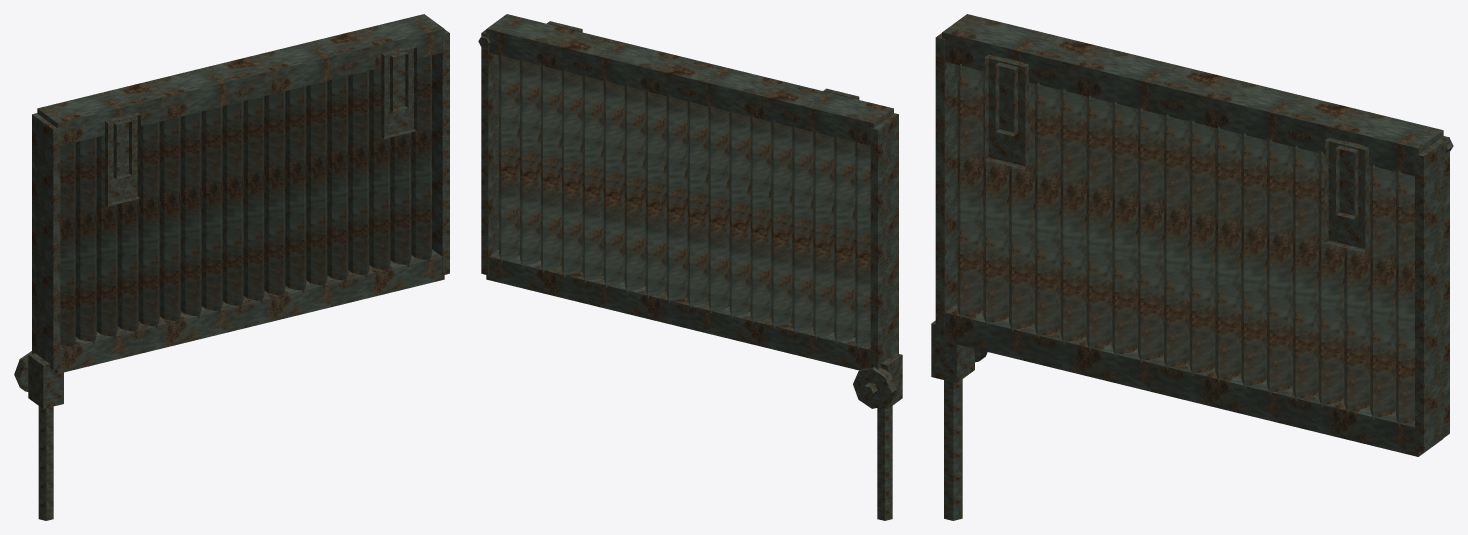
The model's file is SM_Radiator.fbx.
3 views of the same model, side by side, from view 1: azimuth 30°, elevation 25°; view 2: azimuth 150°, elevation 25°; view 3: azimuth 330°, elevation 25° (orthographic). The views are drawn at different scales.
Visible parts, largest first — view 1: SM_Radiator; view 2: SM_Radiator; view 3: SM_Radiator.
Boxes of the visible parts, x1,y1,x2,y2 form: SM_Radiator: (14,14,449,520); SM_Radiator: (478,14,902,520); SM_Radiator: (931,14,1453,520).
Size of the model in its own units: 1.04 by 0.96 by 0.154.
